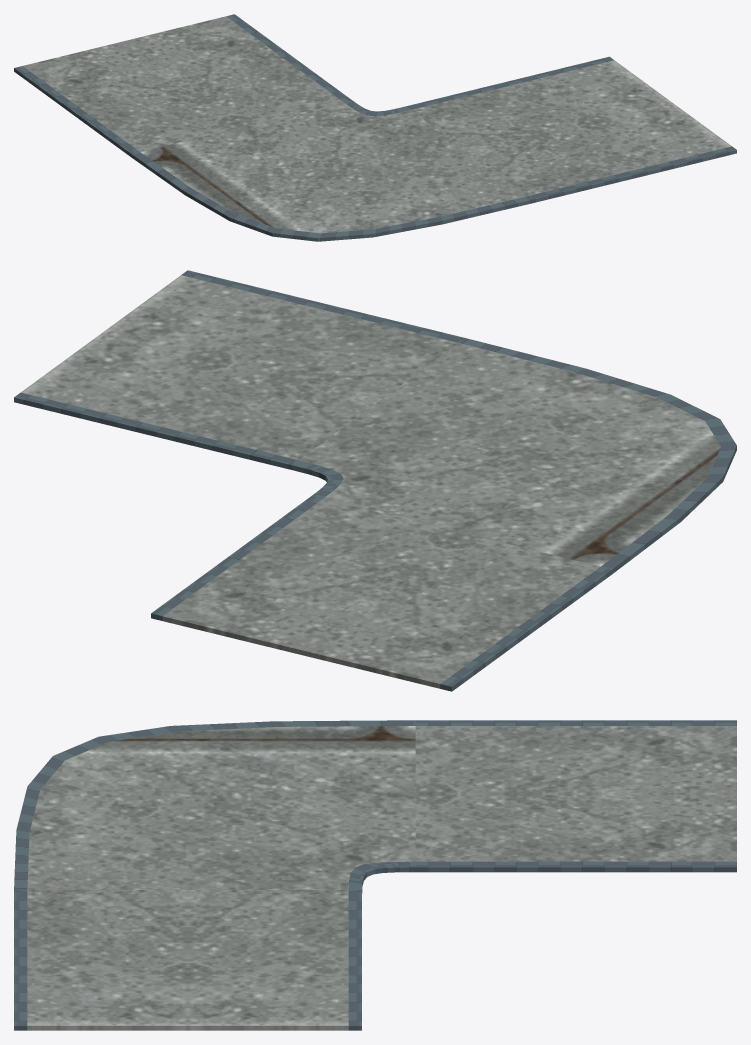
Rendered from Road L1.fbx.
3 renders of one model, top to bottom at view 1: azimuth 30°, elevation 25°; view 2: azimuth 150°, elevation 25°; view 3: azimuth 270°, elevation 25°, orthographic. The views are drawn at different scales.
Visible parts, largest first — view 1: Road L1; view 2: Road L1; view 3: Road L1.
Part boxes in pixels (x1,y1,x2,y2): Road L1: (14,14,736,241); Road L1: (14,270,736,691); Road L1: (14,720,736,1030).
Bounding box in the file's own units: 1350 × 10 × 1350.
